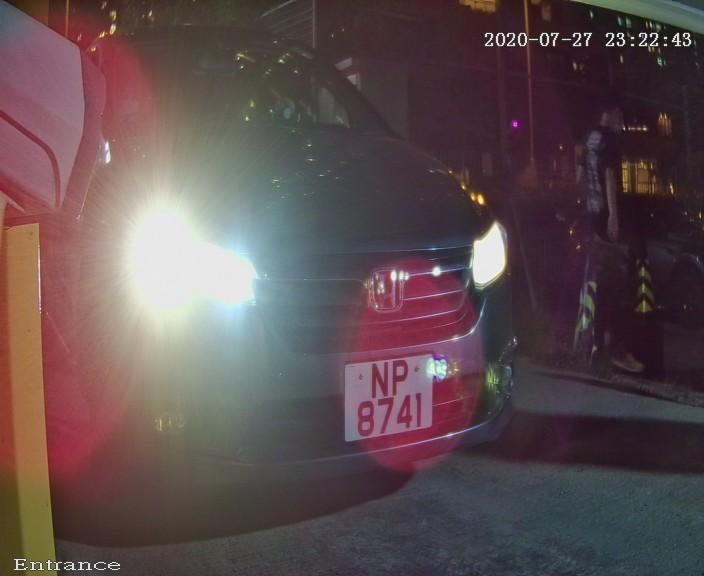privatecar: (76, 13, 558, 527)
